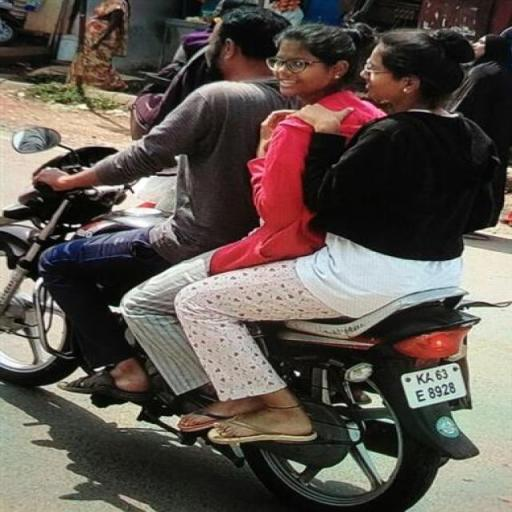tripple riding: (0, 4, 510, 358)
